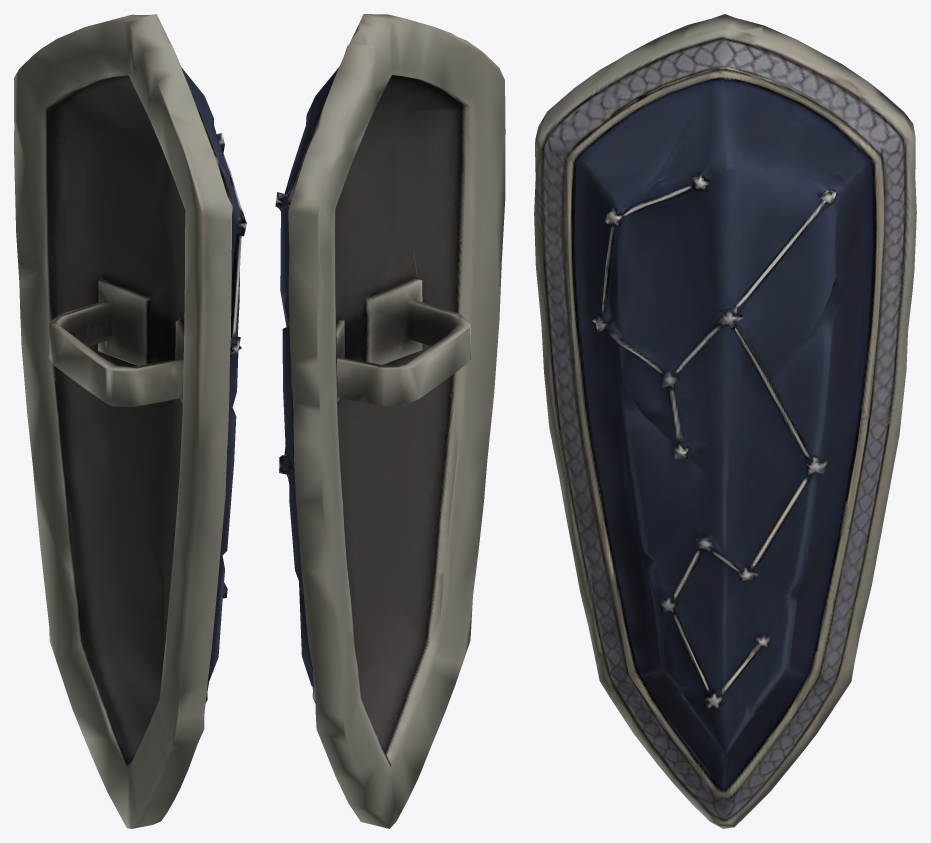
The model's file is boss_tasset.glb.
The picture shows the model from 3 angles, left to right: view 1: azimuth 30°, elevation 25°; view 2: azimuth 150°, elevation 25°; view 3: azimuth 270°, elevation 25°; orthographic projection.
Parts seen in each view (by area): view 1: tripo_node_48a37c4a-8563-4650-813f-bbce4afc2bfd; view 2: tripo_node_48a37c4a-8563-4650-813f-bbce4afc2bfd; view 3: tripo_node_48a37c4a-8563-4650-813f-bbce4afc2bfd.
Part boxes in pixels (x1,y1,x2,y2): tripo_node_48a37c4a-8563-4650-813f-bbce4afc2bfd: [14, 14, 246, 828]; tripo_node_48a37c4a-8563-4650-813f-bbce4afc2bfd: [275, 14, 505, 828]; tripo_node_48a37c4a-8563-4650-813f-bbce4afc2bfd: [534, 14, 916, 828].
Bounding box in the file's own units: 0.1856 × 1 × 0.4311.
Materials: 1 (1 with a texture image).
